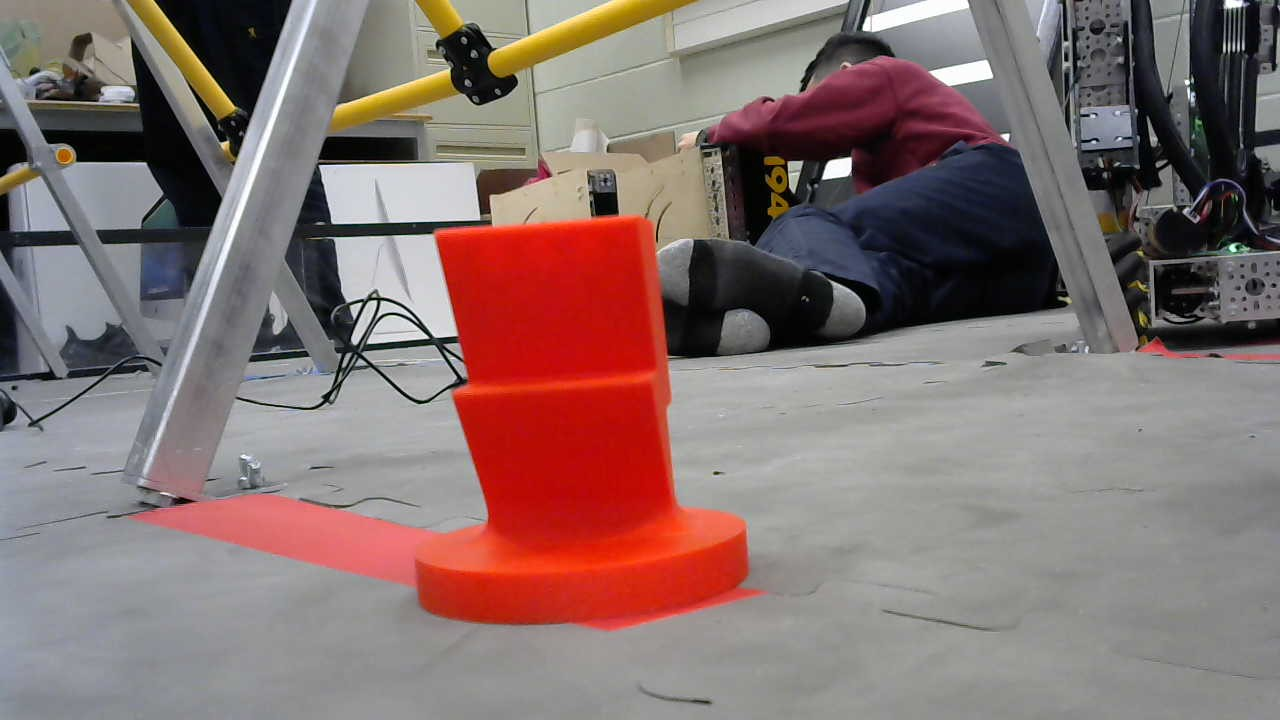redobject: (412, 215, 753, 624)
